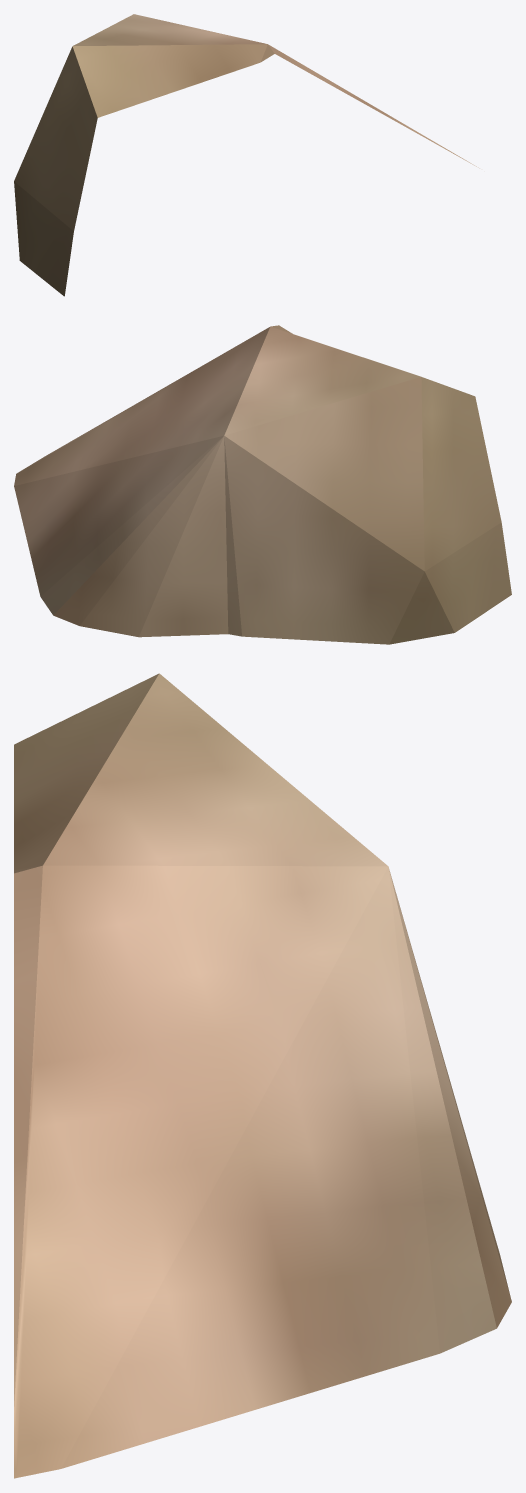
3 renders of one model, top to bottom at view 1: azimuth 30°, elevation 25°; view 2: azimuth 150°, elevation 25°; view 3: azimuth 270°, elevation 25°, orthographic. The views are drawn at different scales.
Size of the model in its own units: 0.1724 by 0.0784 by 0.0845.
1 material, 1 textured.
